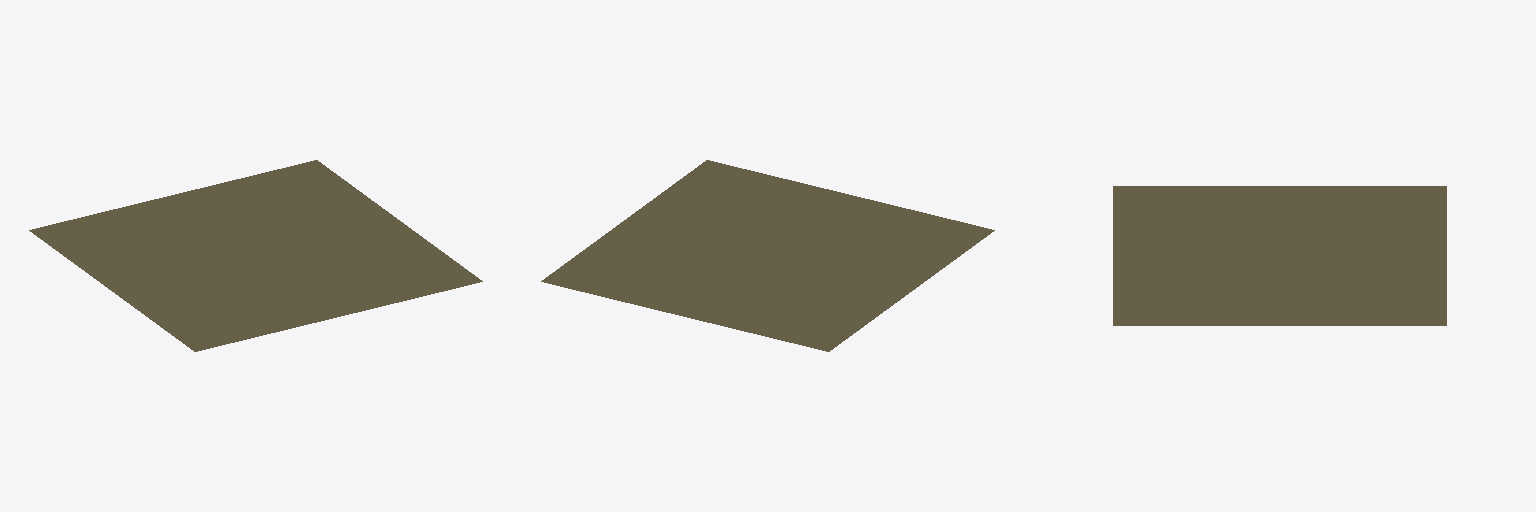
File: niwa.obj
The picture shows the model from 3 angles: view 1: azimuth 30°, elevation 25°; view 2: azimuth 150°, elevation 25°; view 3: azimuth 270°, elevation 25°; orthographic projection.
Parts seen in each view (by area): view 1: niwa.obj; view 2: niwa.obj; view 3: niwa.obj.
Boxes of the visible parts, x1,y1,x2,y2 form: niwa.obj: [29, 160, 482, 351]; niwa.obj: [541, 160, 994, 351]; niwa.obj: [1113, 186, 1446, 325].
Size of the model in its own units: 25.21 by 0 by 25.21.